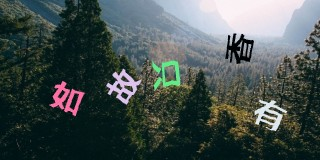只: (150, 60, 180, 90)
如: (50, 80, 85, 117)
故: (106, 68, 142, 105)
有: (254, 98, 287, 131)
香: (224, 31, 255, 65)
